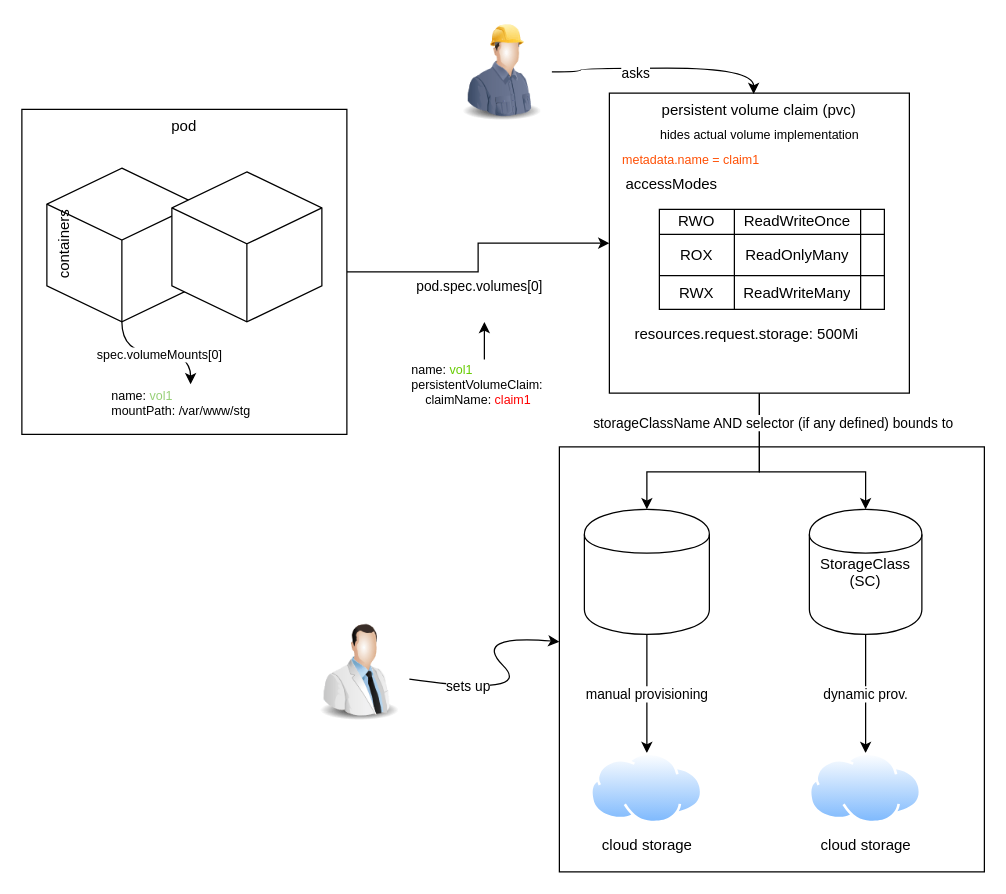
Some shapes in this 1006 by 894 pixel diagram are drawn without their labels. Here are the shapes that lost their labels. From the top down, the centre of each, then its label:
the point at 501,71: dev
the point at 646,571: PersistentVolume (PV)
the point at 359,671: admin
